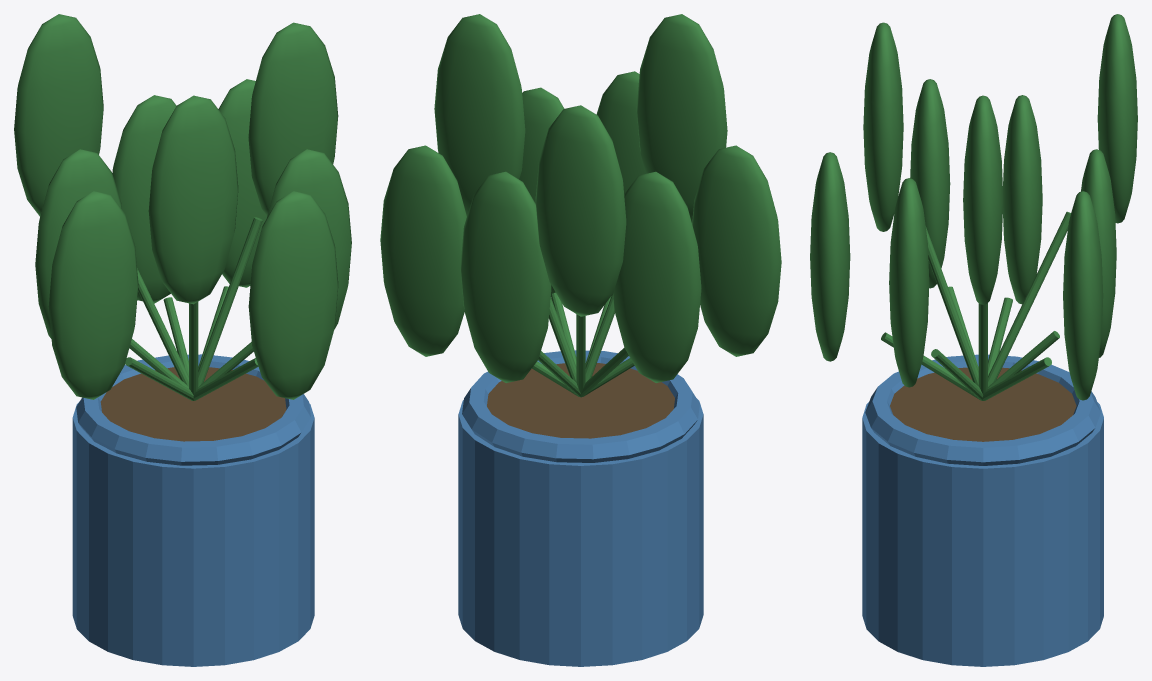
The model's file is potted_plant_blue.glb.
3 views of the same model, side by side, from view 1: azimuth 30°, elevation 25°; view 2: azimuth 150°, elevation 25°; view 3: azimuth 270°, elevation 25° (orthographic).
Visible parts, largest first — view 1: planter, broad leaf.005, broad leaf.007, broad leaf.006, broad leaf.003, broad leaf, soil, pot lip, broad leaf.002, broad leaf.004, broad leaf.008, broad leaf.001 (+8 smaller); view 2: planter, broad leaf.003, broad leaf.002, broad leaf.005, broad leaf.001, broad leaf.004, broad leaf, broad leaf.006, soil, pot lip, broad leaf.007, broad leaf.008 (+3 smaller); view 3: planter, soil, pot lip, broad leaf, broad leaf.006, broad leaf.008, broad leaf.007, broad leaf.001, broad leaf.004, broad leaf.003, broad leaf.005, broad leaf.002 (+8 smaller).
Part boxes in pixels (box(x1,y1,x2,y2)): planter: box(72, 401, 314, 666); broad leaf.005: box(48, 191, 138, 399); broad leaf.007: box(248, 191, 338, 399); broad leaf.006: box(148, 95, 238, 304); broad leaf.003: box(14, 14, 103, 216); broad leaf: box(248, 22, 338, 215); soil: box(100, 367, 286, 441); pot lip: box(76, 354, 310, 465); broad leaf.002: box(112, 95, 176, 303); broad leaf.004: box(35, 149, 121, 338); broad leaf.008: box(267, 149, 351, 329); broad leaf.001: box(218, 79, 267, 287); planter: box(458, 399, 703, 666); broad leaf.003: box(535, 105, 626, 316); broad leaf.002: box(460, 171, 551, 382); broad leaf.005: box(692, 145, 781, 356); broad leaf.001: box(380, 145, 466, 356); broad leaf.004: box(613, 171, 701, 382); broad leaf: box(434, 14, 525, 215); broad leaf.006: box(636, 14, 727, 222); soil: box(487, 363, 674, 438); pot lip: box(462, 350, 699, 462); broad leaf.007: box(596, 71, 645, 193); broad leaf.008: box(519, 87, 564, 296); planter: box(862, 402, 1103, 666); soil: box(890, 367, 1076, 441); pot lip: box(865, 354, 1100, 465); broad leaf: box(963, 95, 1003, 304); broad leaf.006: box(863, 22, 903, 231); broad leaf.008: box(889, 178, 929, 387); broad leaf.007: box(810, 152, 850, 361); broad leaf.001: box(1063, 191, 1103, 400); broad leaf.004: box(1003, 95, 1042, 304); broad leaf.003: box(1097, 14, 1137, 223); broad leaf.005: box(910, 79, 950, 288); broad leaf.002: box(1081, 149, 1116, 357).
Bounding box in the file's own units: 0.6405 × 1.09 × 0.5697.
